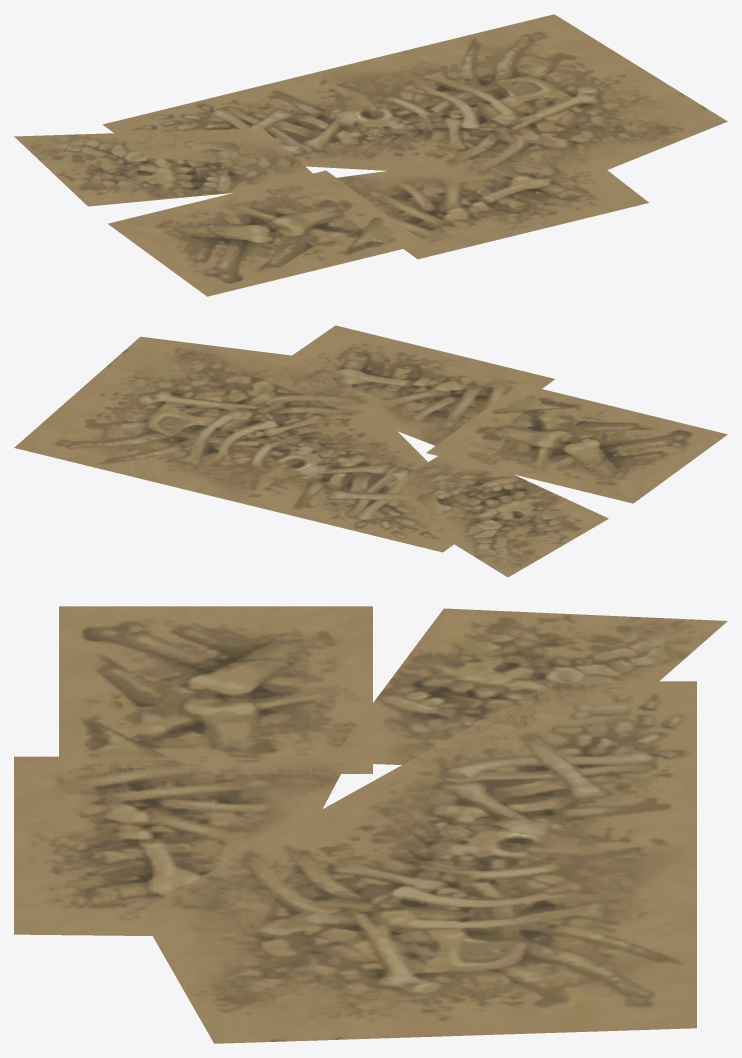
Rendered from environment_common_shitigutou_004_a.FBX.
The picture shows the model from 3 angles, top to bottom: view 1: azimuth 30°, elevation 25°; view 2: azimuth 150°, elevation 25°; view 3: azimuth 270°, elevation 25°; orthographic projection. The views are drawn at different scales.
Parts seen in each view (by area): view 1: environment_common_shitigutou_004_a02, environment_common_shitigutou_004_a03, environment_common_shitigutou_004_a04, environment_common_shitigutou_004_a01; view 2: environment_common_shitigutou_004_a02, environment_common_shitigutou_004_a03, environment_common_shitigutou_004_a04, environment_common_shitigutou_004_a01; view 3: environment_common_shitigutou_004_a02, environment_common_shitigutou_004_a03, environment_common_shitigutou_004_a04, environment_common_shitigutou_004_a01.
Boxes of the visible parts, x1,y1,x2,y2 form: environment_common_shitigutou_004_a02: (102,14,727,179); environment_common_shitigutou_004_a03: (108,170,425,296); environment_common_shitigutou_004_a04: (313,158,648,259); environment_common_shitigutou_004_a01: (14,128,323,206); environment_common_shitigutou_004_a02: (14,336,472,552); environment_common_shitigutou_004_a03: (426,384,727,503); environment_common_shitigutou_004_a04: (260,325,554,445); environment_common_shitigutou_004_a01: (377,456,608,577); environment_common_shitigutou_004_a02: (139,681,696,1043); environment_common_shitigutou_004_a03: (59,606,372,773); environment_common_shitigutou_004_a04: (14,756,349,937); environment_common_shitigutou_004_a01: (329,608,727,766).
Bounding box in the file's own units: 379 × 5.79e-14 × 262.
